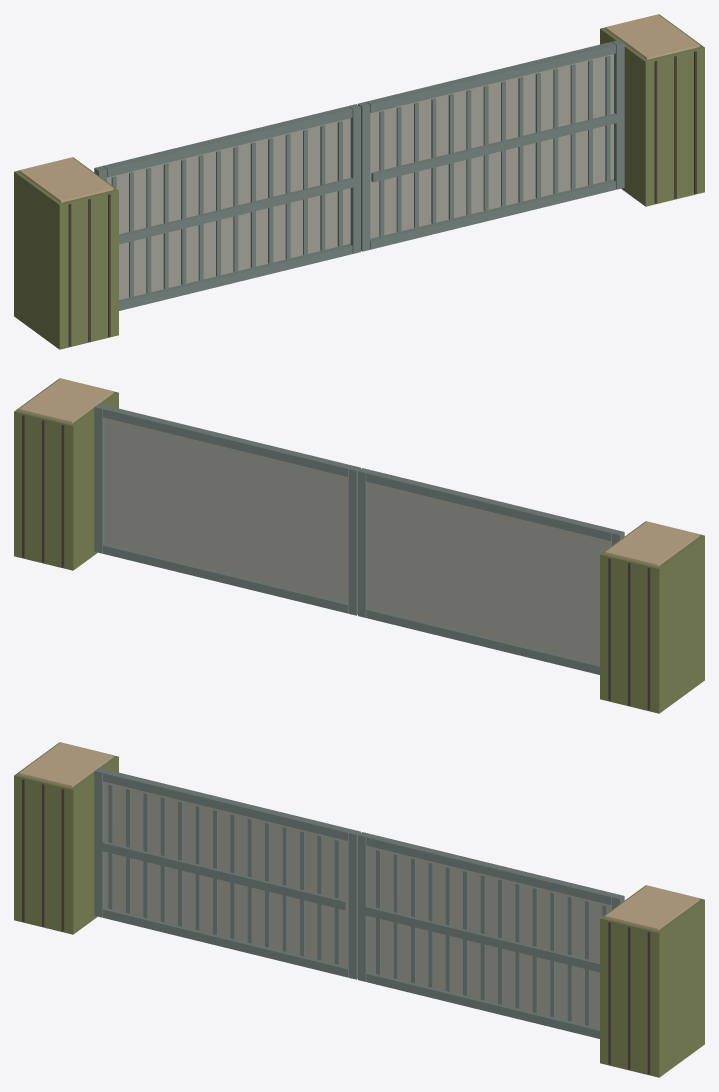
Rendered from SM_PuertaVehiculos_v1_ChapaOndulada_e0_Sano_LOD0.fbx.
3 renders of one model, top to bottom at view 1: azimuth 30°, elevation 25°; view 2: azimuth 150°, elevation 25°; view 3: azimuth 330°, elevation 25°, orthographic.
Visible parts, largest first — view 1: Hoja_E, Hoja_O, SM_bloques.puerta_estados_v4_LOD0; view 2: Hoja_E, Hoja_O, SM_bloques.puerta_estados_v4_LOD0; view 3: Hoja_O, Hoja_E, SM_bloques.puerta_estados_v4_LOD0.
Part boxes in pixels (x1,y1,x2,y2): Hoja_E: (358, 40, 624, 251); Hoja_O: (94, 104, 360, 310); SM_bloques.puerta_estados_v4_LOD0: (14, 14, 704, 349); Hoja_E: (94, 404, 360, 615); Hoja_O: (358, 468, 624, 674); SM_bloques.puerta_estados_v4_LOD0: (14, 378, 704, 713); Hoja_O: (94, 768, 360, 979); Hoja_E: (358, 832, 624, 1038); SM_bloques.puerta_estados_v4_LOD0: (14, 742, 704, 1077).
Size of the model in its own units: 9.8 by 2.16 by 1.24.
